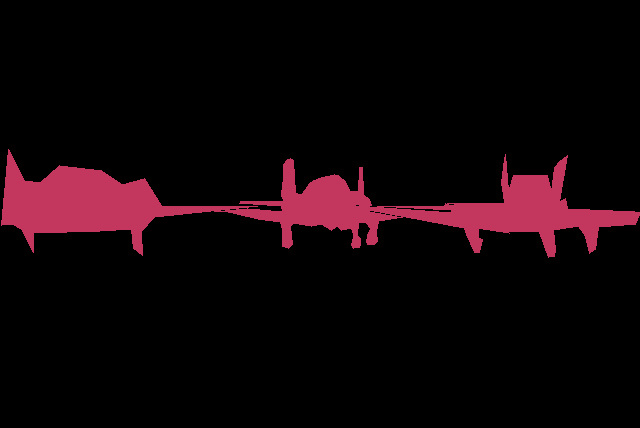Airplane: (339, 154, 640, 257), (1, 149, 257, 255), (214, 158, 453, 248)
